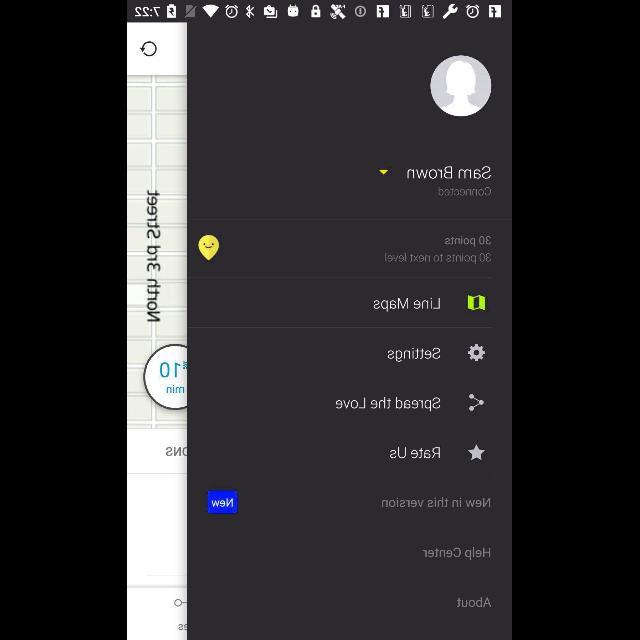icon: (432, 56, 492, 116), (198, 234, 220, 262), (468, 344, 486, 362), (468, 444, 486, 461), (468, 295, 486, 311), (140, 42, 158, 56), (470, 394, 484, 412), (380, 168, 390, 176)
panel: (188, 22, 512, 640)
text: (336, 398, 442, 412), (386, 252, 492, 264), (382, 497, 492, 508), (407, 166, 491, 180), (423, 546, 491, 560), (374, 298, 441, 312), (388, 348, 442, 362), (391, 447, 441, 459), (438, 187, 492, 197), (446, 236, 492, 247), (458, 596, 492, 608)
textbutton: (208, 491, 238, 514)
uppertaskbar: (128, 1, 512, 23)
